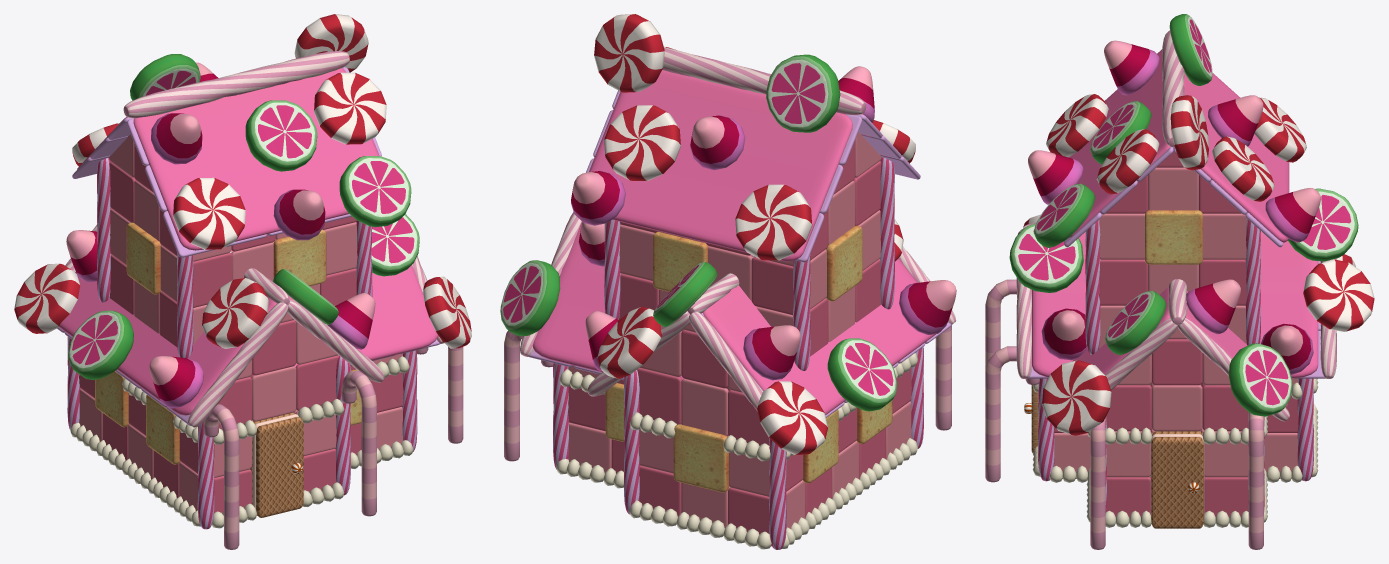
Rendered from cw_house_30.fbx.
3 views of the same model, side by side, from view 1: azimuth 30°, elevation 25°; view 2: azimuth 150°, elevation 25°; view 3: azimuth 270°, elevation 25° (orthographic). The views are drawn at different scales.
Parts seen in each view (by area): view 1: cw_house_30; view 2: cw_house_30; view 3: cw_house_30.
Part boxes in pixels (x1=…): cw_house_30: x1=14, y1=14, x2=471, y2=549; cw_house_30: x1=500, y1=14, x2=956, y2=549; cw_house_30: x1=985, y1=14, x2=1374, y2=549.
Size of the model in its own units: 832 by 970 by 829.
